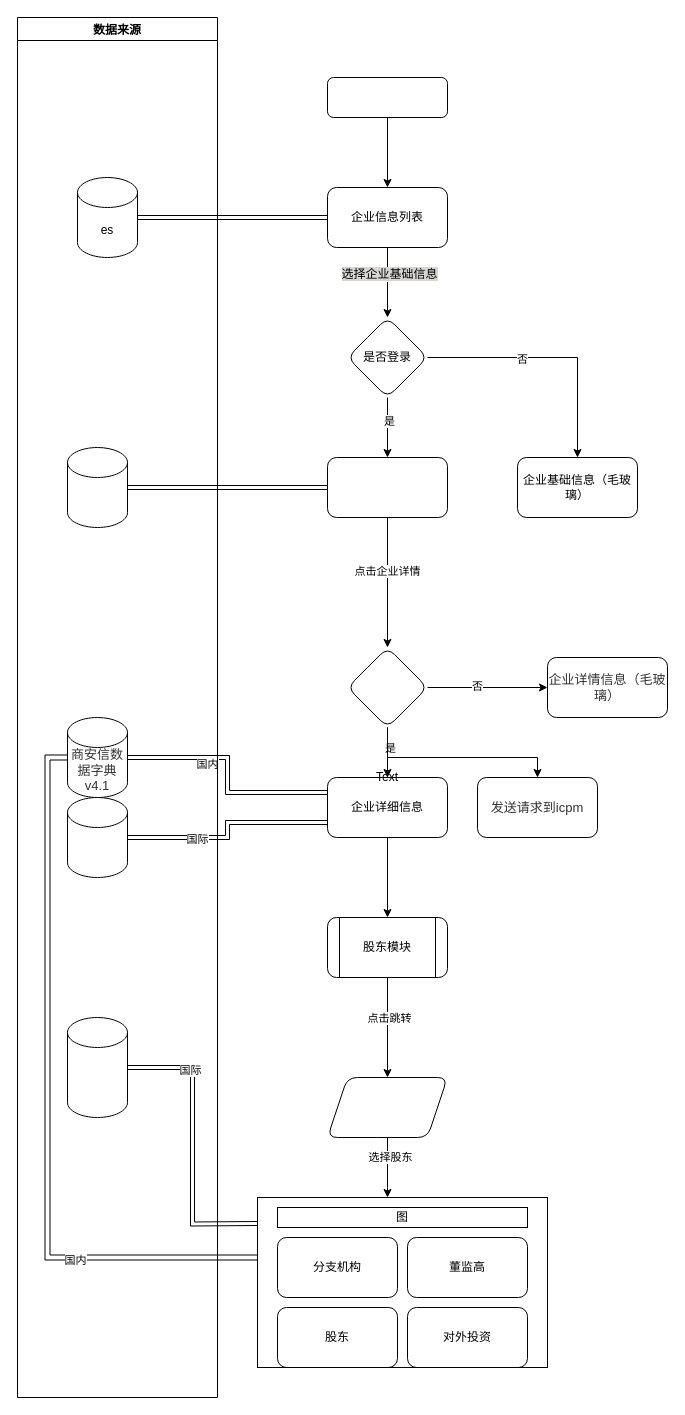
This 685x1415 diagram has some shape labels left out. The centre of each missing label's shape, as x and y in pixels:
3ACredit商安信 国际API文档 V1.0: the point at 97,1067
hbase: the point at 97,487
企业基础信息: the point at 387,487
接口输出字典v1.0: the point at 97,837
是否购买报告: the point at 387,687
查询企业信息: the point at 387,97
股东列表: the point at 387,1107
